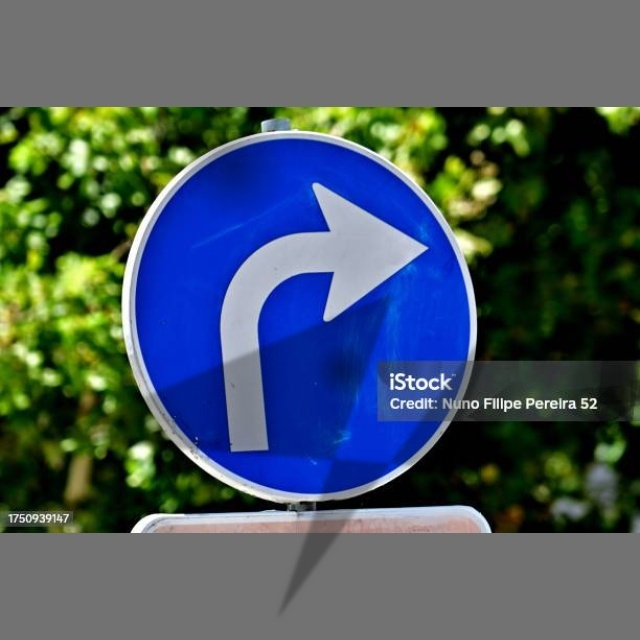Compulsory_Turn_Right_Ahead: (133, 132, 471, 488)
